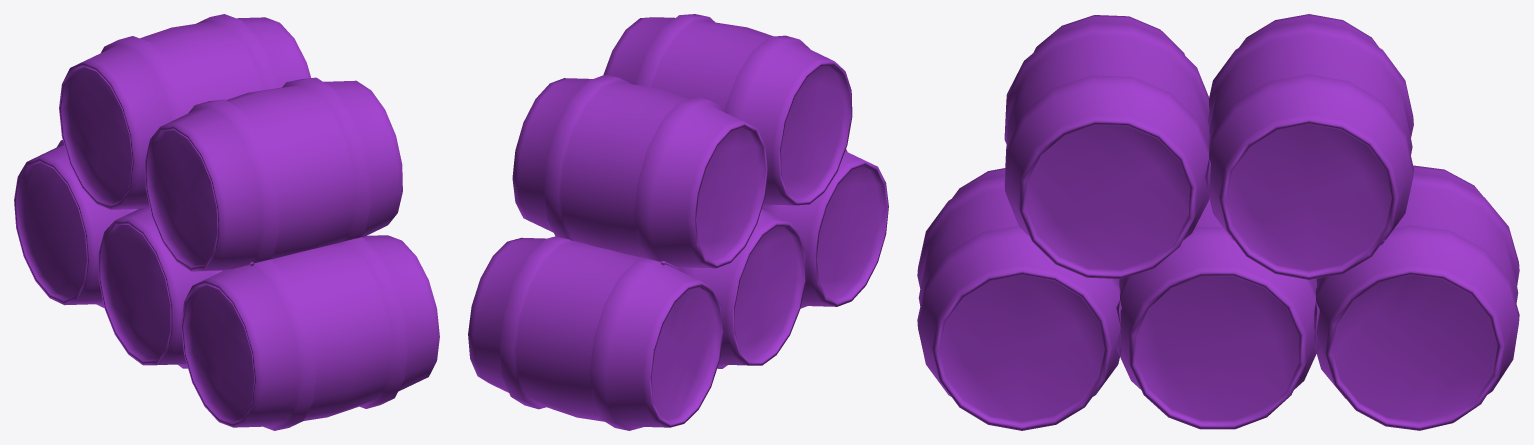
Rendered from Barrel_Multi_02_Lod0.fbx.
3 renders of one model, left to right at view 1: azimuth 30°, elevation 25°; view 2: azimuth 150°, elevation 25°; view 3: azimuth 270°, elevation 25°, orthographic. The views are drawn at different scales.
Visible parts, largest first — view 1: Barrel_Multi_02_Lod0; view 2: Barrel_Multi_02_Lod0; view 3: Barrel_Multi_02_Lod0.
Part boxes in pixels (x1=…): Barrel_Multi_02_Lod0: x1=14, y1=14, x2=439, y2=430; Barrel_Multi_02_Lod0: x1=468, y1=14, x2=888, y2=430; Barrel_Multi_02_Lod0: x1=917, y1=14, x2=1519, y2=430.
Size of the model in its own units: 79.88 by 121 by 193.
